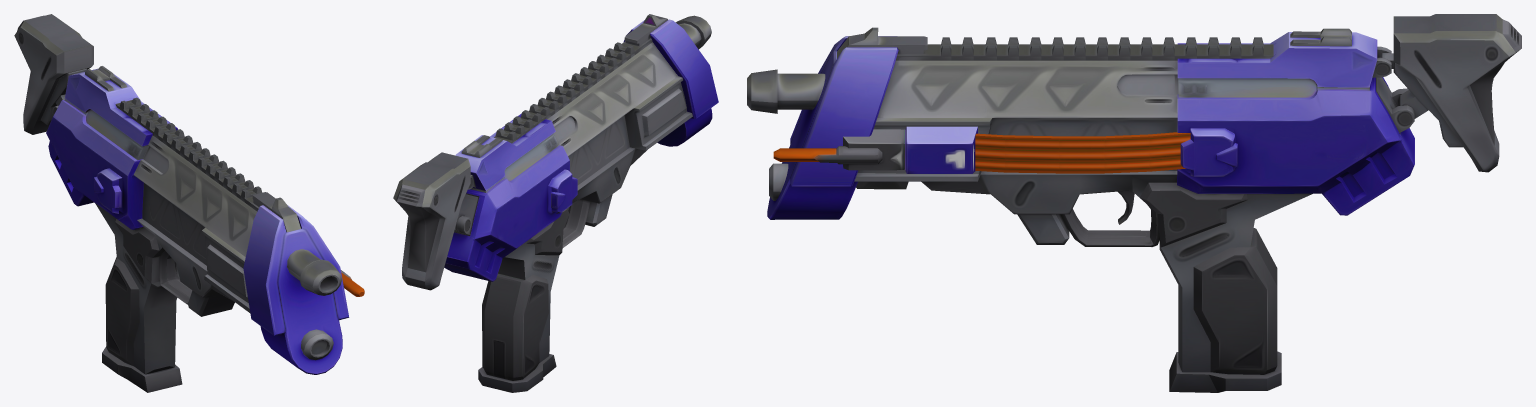
File: SMG_Mobile.FBX
3 views of the same model, side by side, from view 1: azimuth 30°, elevation 25°; view 2: azimuth 150°, elevation 25°; view 3: azimuth 270°, elevation 25° (orthographic). The views are drawn at different scales.
Visible parts, largest first — view 1: SMG_Mobile; view 2: SMG_Mobile; view 3: SMG_Mobile.
Part boxes in pixels (x1=…): SMG_Mobile: x1=14, y1=14, x2=364, y2=392; SMG_Mobile: x1=393, y1=14, x2=718, y2=392; SMG_Mobile: x1=747, y1=14, x2=1521, y2=392.
Size of the model in its own units: 7.89 by 22.02 by 43.12.
1 material, 1 textured.
